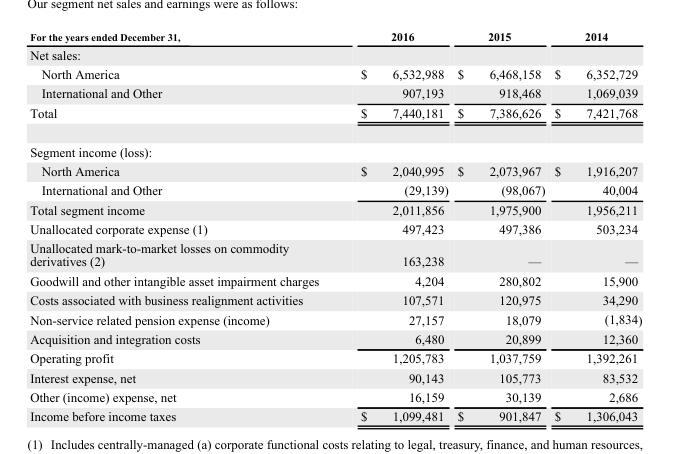table: (29, 29, 641, 423)
table column: (29, 29, 339, 423), (339, 29, 452, 423), (452, 29, 549, 423), (549, 29, 641, 423)
table column header: (29, 29, 641, 44)
table projected row header: (29, 131, 641, 160), (29, 44, 641, 63)
table row: (29, 238, 641, 270), (29, 102, 641, 131), (29, 131, 641, 160), (29, 63, 641, 83), (29, 160, 641, 180), (29, 199, 641, 219), (29, 270, 641, 290), (29, 328, 641, 348), (29, 386, 641, 406), (29, 44, 641, 63), (29, 83, 641, 102), (29, 180, 641, 199), (29, 219, 641, 238), (29, 290, 641, 309), (29, 309, 641, 328), (29, 348, 641, 367), (29, 367, 641, 386), (29, 406, 641, 423), (29, 29, 641, 44)
